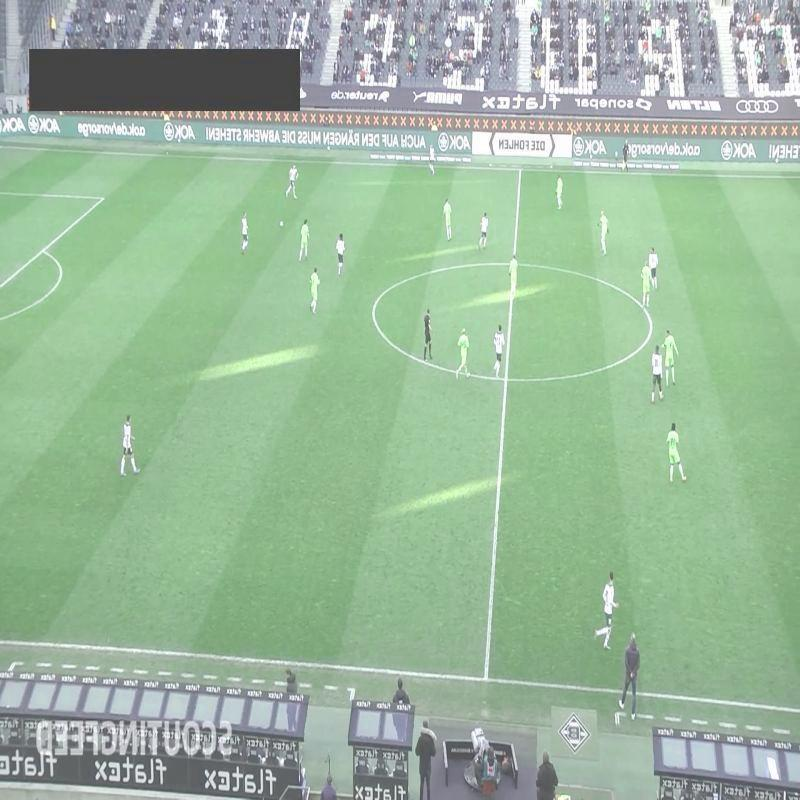10: (34, 242, 48, 256)
13: (512, 162, 526, 176)
14: (508, 256, 522, 270)
15: (499, 371, 513, 385)
16: (478, 670, 492, 684)
9: (94, 191, 108, 205)
c: (644, 318, 660, 332), (366, 305, 380, 318)
